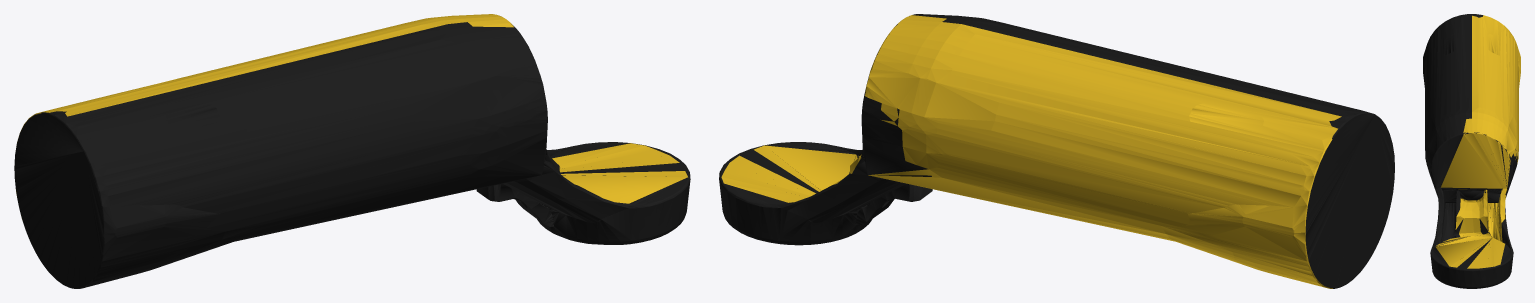
File: arm0.link_el1.glb
3 renders of one model, left to right at view 1: azimuth 30°, elevation 25°; view 2: azimuth 150°, elevation 25°; view 3: azimuth 270°, elevation 25°, orthographic. The views are drawn at different scales.
Parts seen in each view (by area): view 1: arm0.link_el1.002; view 2: arm0.link_el1.002; view 3: arm0.link_el1.002.
Boxes of the visible parts, x1,y1,x2,y2 form: arm0.link_el1.002: [14, 14, 690, 288]; arm0.link_el1.002: [719, 14, 1394, 288]; arm0.link_el1.002: [1423, 14, 1520, 288].
Bounding box in the file's own units: 0.2973 × 0.1059 × 0.0782.
